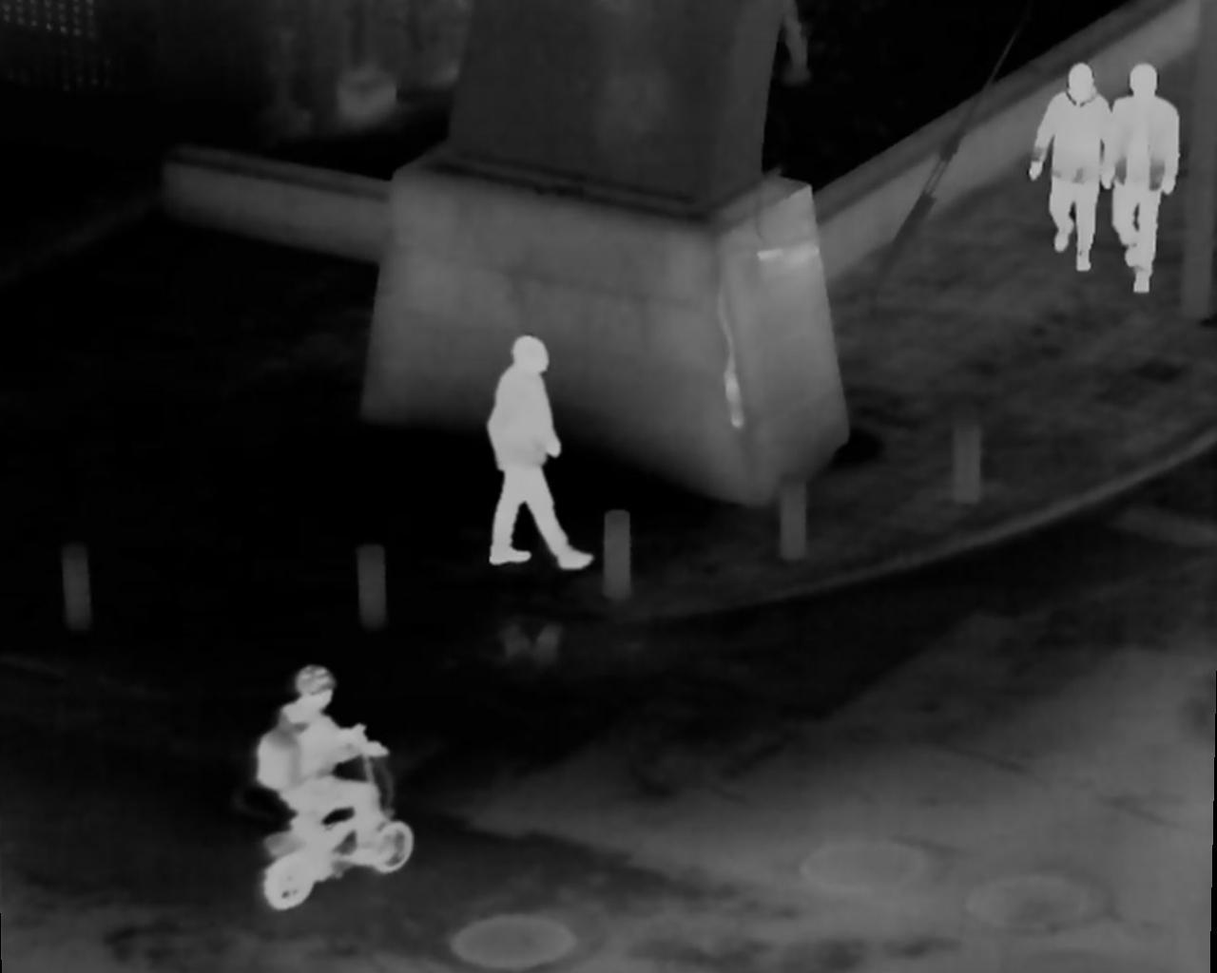person: (474, 328, 593, 582), (259, 664, 388, 881), (1079, 66, 1190, 286), (1032, 70, 1129, 274)
